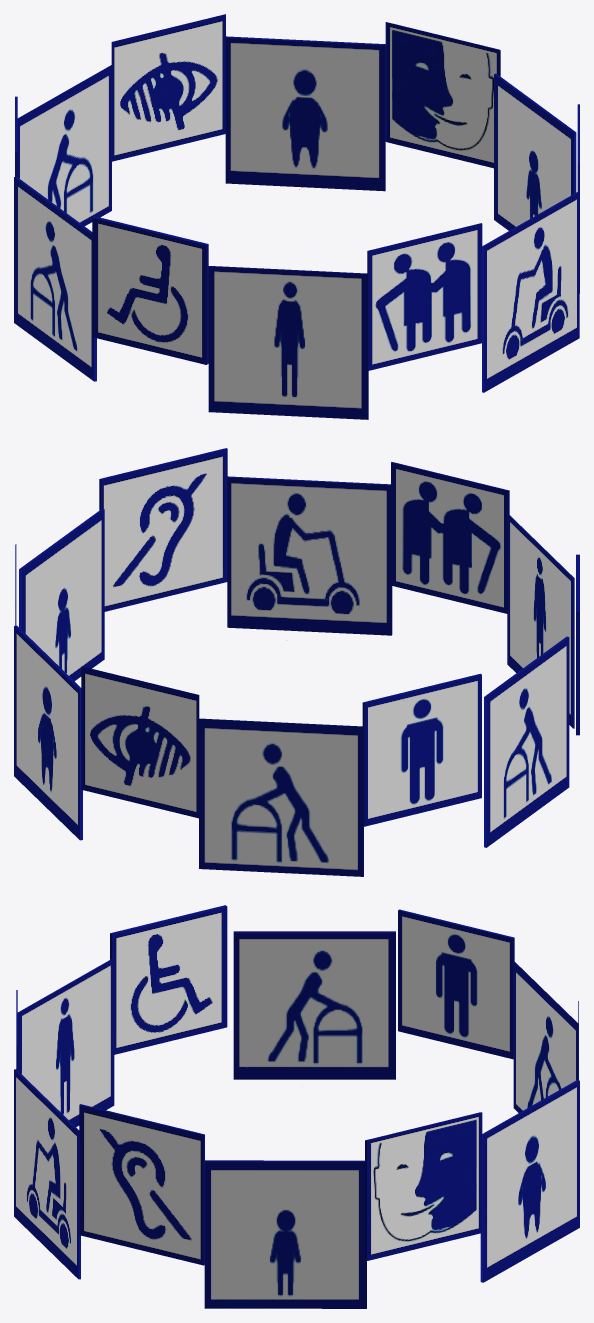
File: accessibilité.fbx
3 views of the same model, one above another, from view 1: azimuth 30°, elevation 25°; view 2: azimuth 150°, elevation 25°; view 3: azimuth 270°, elevation 25° (orthographic). The views are drawn at different scales.
Visible parts, largest first — view 1: Plane; view 2: Plane; view 3: Plane.
Part boxes in pixels (<box>): Plane: <box>14,14,579,419</box>; Plane: <box>14,448,579,876</box>; Plane: <box>14,905,579,1308</box>.
Bounding box in the file's own units: 652 × 226 × 663.
